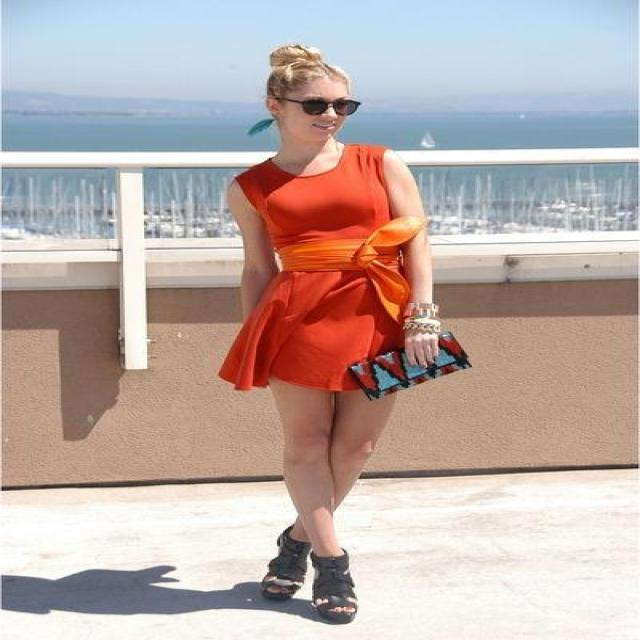bag: (344, 326, 470, 396)
dress: (218, 145, 422, 390)
shoe: (269, 524, 310, 570)
sunglass: (294, 97, 360, 115)
